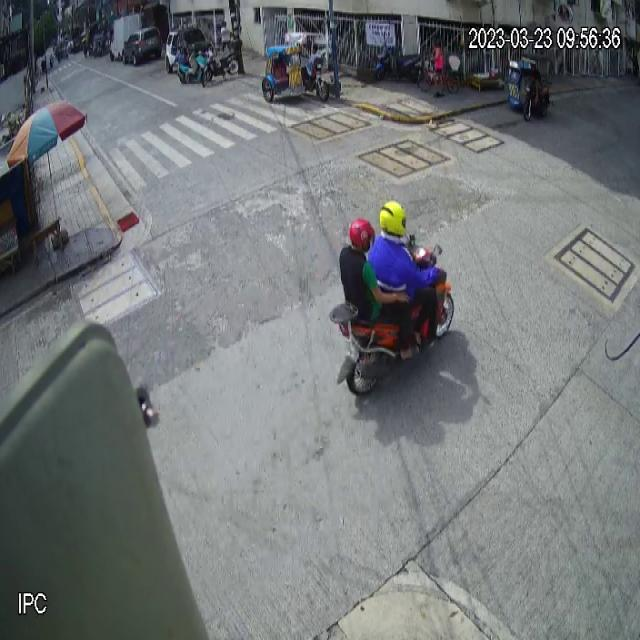Motorcycle: (329, 232, 454, 396)
Tricycle: (261, 31, 330, 103), (507, 52, 553, 122)
